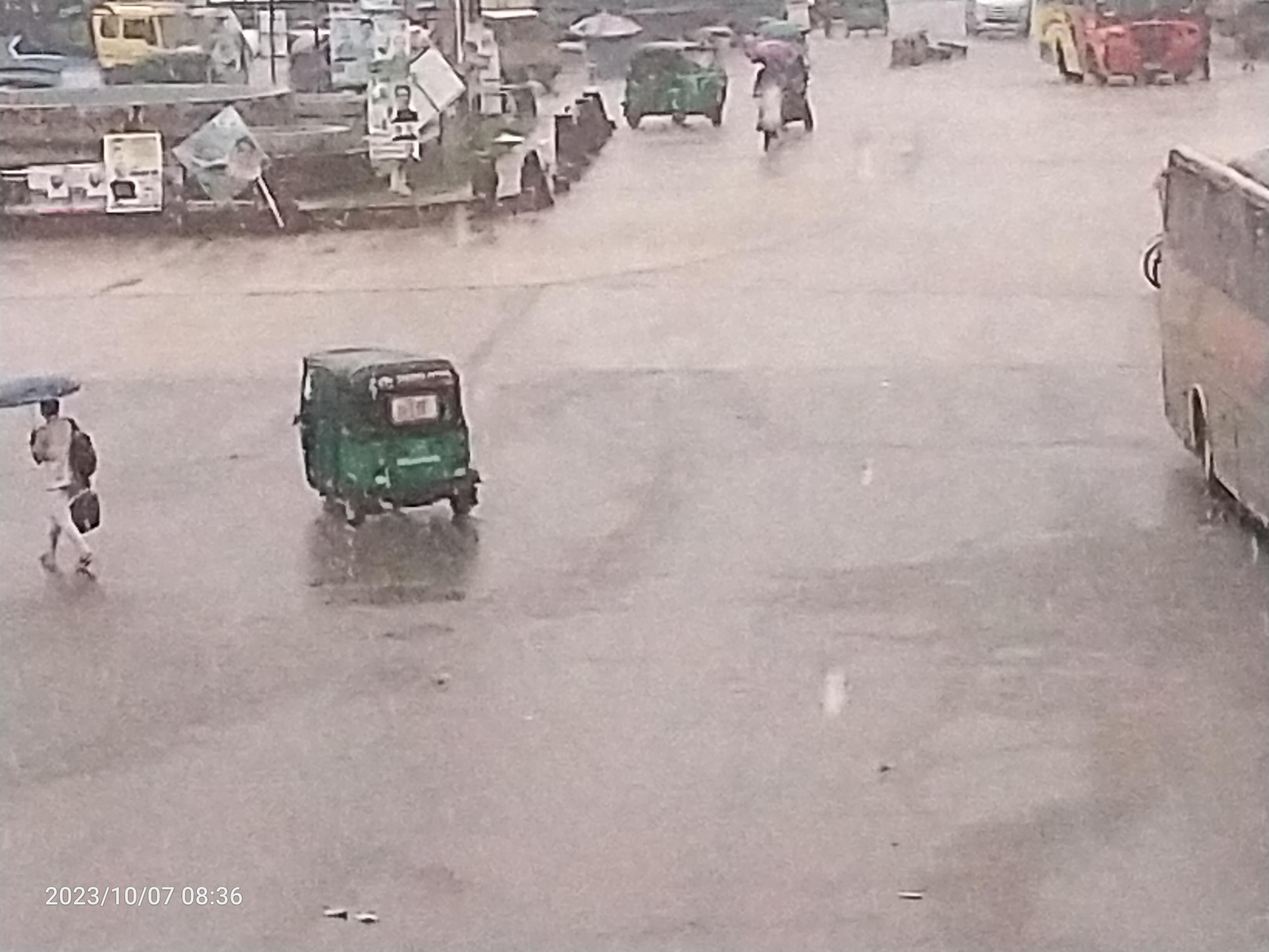Bus: (1115, 72, 1269, 550), (1011, 0, 1228, 110)
Car: (743, 43, 841, 170)
Truck: (12, 0, 200, 101), (822, 0, 905, 47)
